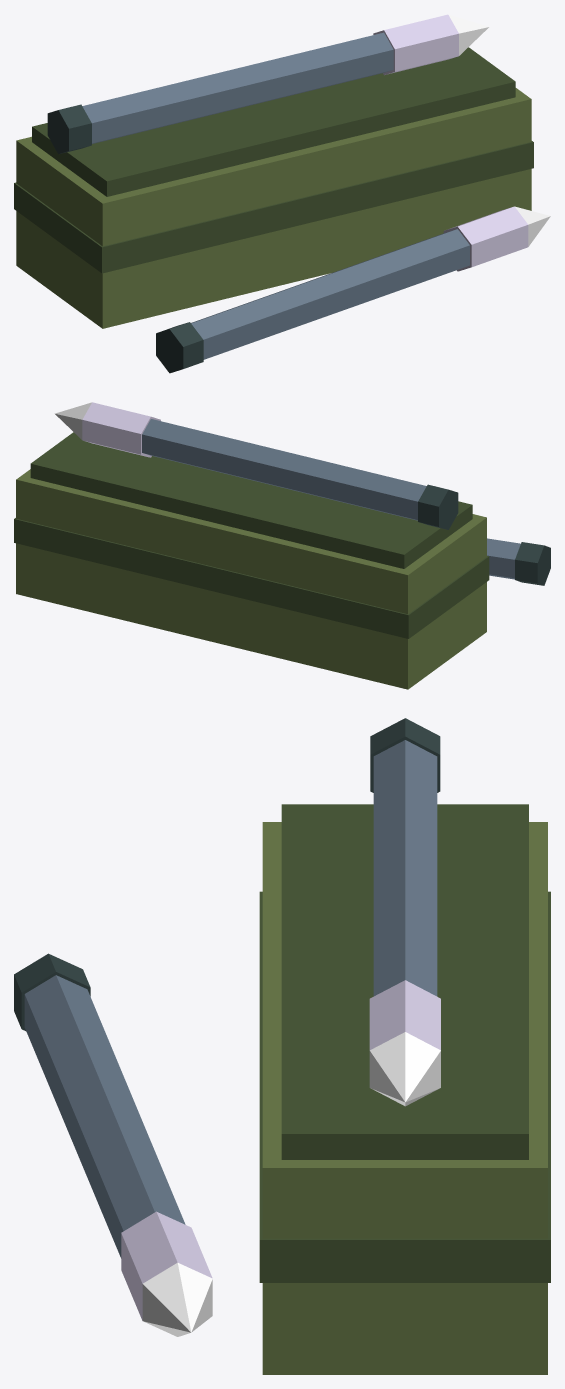
Rendered from ce_ammo2_s8_he_c.obj.
The picture shows the model from 3 angles, top to bottom: view 1: azimuth 30°, elevation 25°; view 2: azimuth 150°, elevation 25°; view 3: azimuth 270°, elevation 25°; orthographic projection. The views are drawn at different scales.
Parts seen in each view (by area): view 1: ce_ammo2_s8_he_c_0, ce_ammo2_s8_he_c_1, ce_ammo2_s8_he_c_2, ce_ammo2_s8_he_c_4, ce_ammo2_s8_he_c_8, ce_ammo2_s8_he_c_5, ce_ammo2_s8_he_c_9, ce_ammo2_s8_he_c_7, ce_ammo2_s8_he_c_3, ce_ammo2_s8_he_c_6, ce_ammo2_s8_he_c_10; view 2: ce_ammo2_s8_he_c_0, ce_ammo2_s8_he_c_1, ce_ammo2_s8_he_c_2, ce_ammo2_s8_he_c_4, ce_ammo2_s8_he_c_5, ce_ammo2_s8_he_c_3, ce_ammo2_s8_he_c_7, ce_ammo2_s8_he_c_8, ce_ammo2_s8_he_c_6; view 3: ce_ammo2_s8_he_c_1, ce_ammo2_s8_he_c_0, ce_ammo2_s8_he_c_8, ce_ammo2_s8_he_c_4, ce_ammo2_s8_he_c_2, ce_ammo2_s8_he_c_9, ce_ammo2_s8_he_c_10, ce_ammo2_s8_he_c_6, ce_ammo2_s8_he_c_5, ce_ammo2_s8_he_c_7, ce_ammo2_s8_he_c_3.
Part boxes in pixels (<box>): ce_ammo2_s8_he_c_0: <box>16,88,531,328</box>; ce_ammo2_s8_he_c_1: <box>32,47,515,196</box>; ce_ammo2_s8_he_c_2: <box>14,141,533,273</box>; ce_ammo2_s8_he_c_4: <box>82,32,393,143</box>; ce_ammo2_s8_he_c_8: <box>191,229,469,359</box>; ce_ammo2_s8_he_c_5: <box>373,14,458,75</box>; ce_ammo2_s8_he_c_9: <box>443,206,528,271</box>; ce_ammo2_s8_he_c_7: <box>156,322,203,373</box>; ce_ammo2_s8_he_c_3: <box>47,104,91,154</box>; ce_ammo2_s8_he_c_6: <box>448,14,488,55</box>; ce_ammo2_s8_he_c_10: <box>515,206,550,246</box>; ce_ammo2_s8_he_c_0: <box>16,469,486,689</box>; ce_ammo2_s8_he_c_1: <box>30,432,472,568</box>; ce_ammo2_s8_he_c_2: <box>14,518,489,638</box>; ce_ammo2_s8_he_c_4: <box>142,419,426,520</box>; ce_ammo2_s8_he_c_5: <box>82,402,160,457</box>; ce_ammo2_s8_he_c_3: <box>418,484,458,529</box>; ce_ammo2_s8_he_c_7: <box>515,542,550,585</box>; ce_ammo2_s8_he_c_8: <box>487,538,520,579</box>; ce_ammo2_s8_he_c_6: <box>55,402,91,439</box>; ce_ammo2_s8_he_c_1: <box>281,804,528,1159</box>; ce_ammo2_s8_he_c_0: <box>262,822,547,1374</box>; ce_ammo2_s8_he_c_8: <box>24,975,185,1258</box>; ce_ammo2_s8_he_c_4: <box>373,740,437,996</box>; ce_ammo2_s8_he_c_2: <box>259,891,550,1282</box>; ce_ammo2_s8_he_c_9: <box>121,1211,212,1320</box>; ce_ammo2_s8_he_c_10: <box>142,1262,212,1336</box>; ce_ammo2_s8_he_c_6: <box>369,1032,440,1106</box>; ce_ammo2_s8_he_c_5: <box>369,980,440,1050</box>; ce_ammo2_s8_he_c_7: <box>14,953,90,1030</box>; ce_ammo2_s8_he_c_3: <box>370,718,440,792</box>.
Bounding box in the file's own units: 0.866 × 0.3603 × 0.5643.
